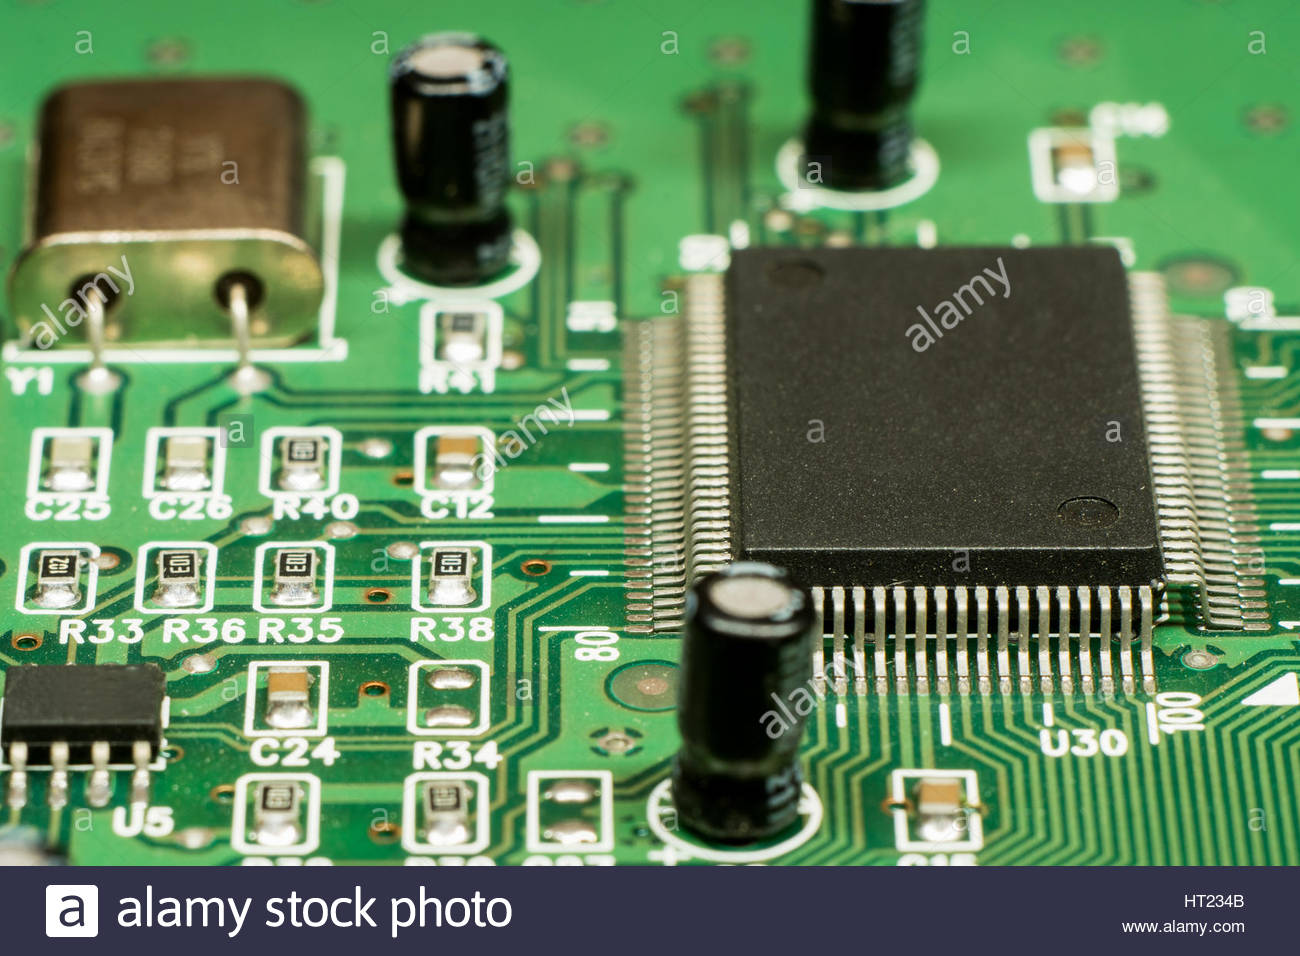capacitor: (371, 28, 595, 308), (654, 548, 850, 852)
